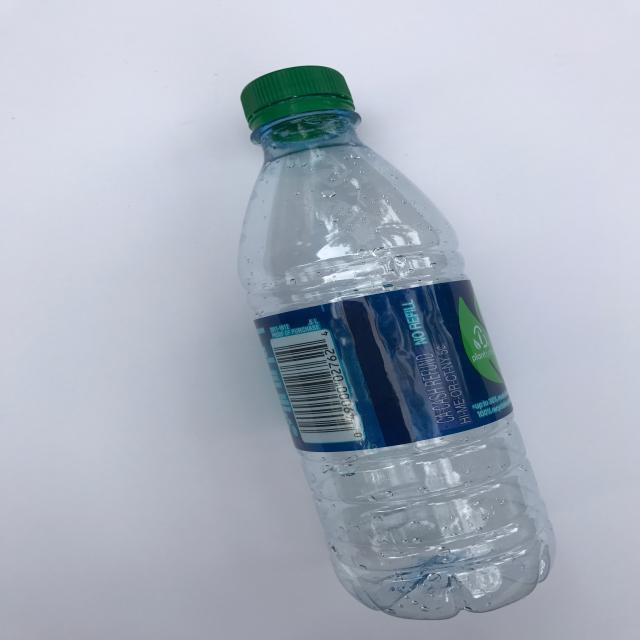plastic: (230, 59, 560, 619)
